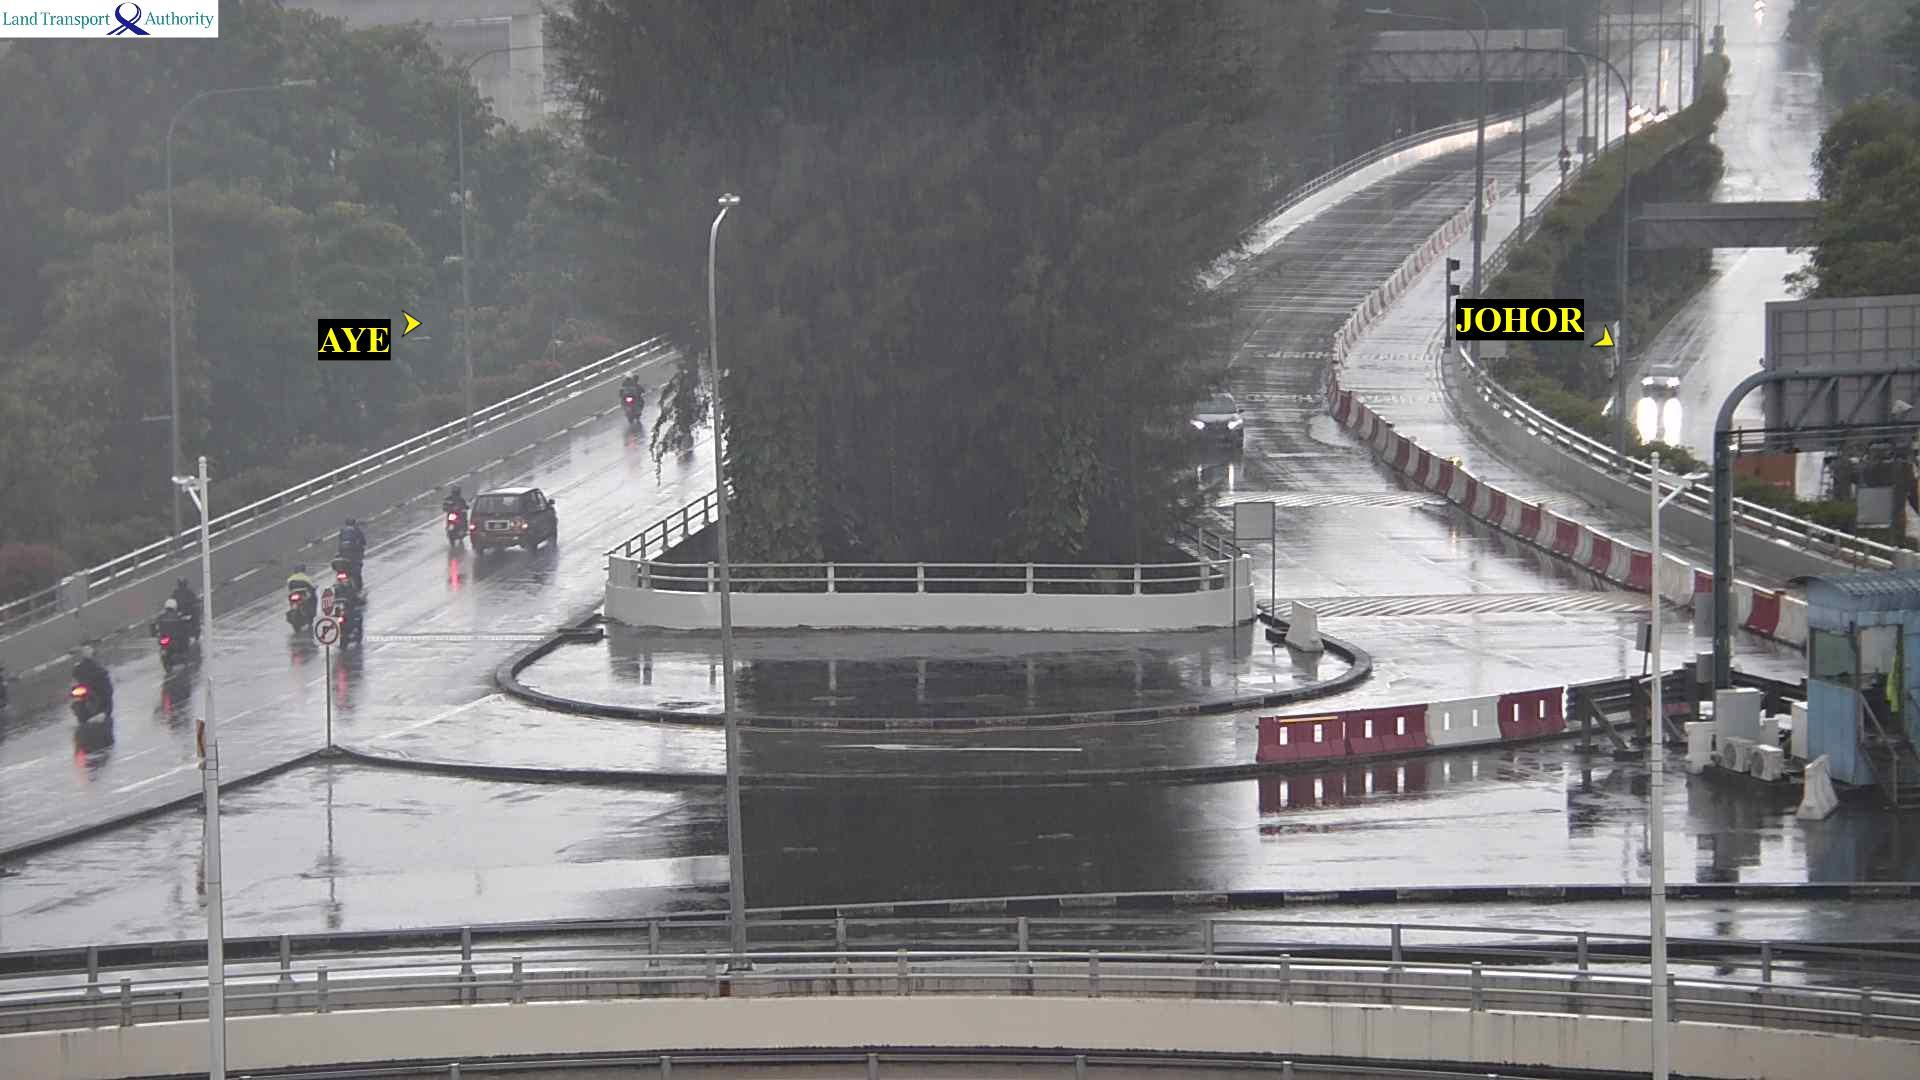vehicle-secondlink-singapore: (448, 484, 555, 554), (73, 654, 120, 708), (156, 600, 190, 669), (334, 572, 364, 645), (286, 564, 313, 629), (173, 578, 202, 636), (615, 371, 640, 421), (344, 513, 367, 564)
